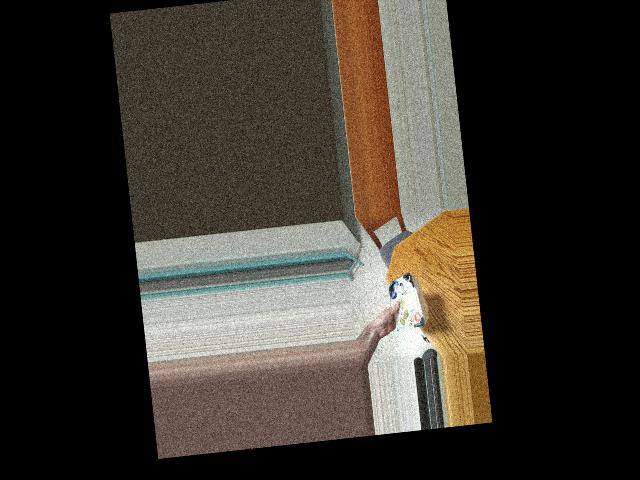cheese: (382, 274, 426, 330)
